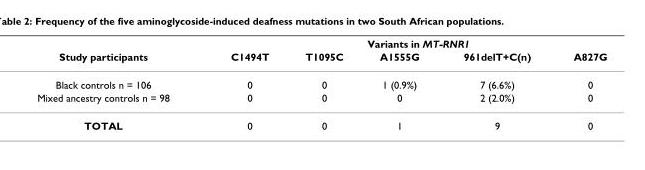table: (36, 37, 606, 131)
table column: (36, 37, 199, 131), (440, 37, 551, 131), (199, 37, 286, 131), (360, 37, 440, 131), (286, 37, 360, 131), (551, 37, 606, 131)
table column header: (36, 37, 606, 70)
table row: (36, 49, 606, 70), (36, 90, 606, 111), (36, 70, 606, 90), (36, 111, 606, 131), (36, 37, 606, 49)
table spanning cell: (36, 37, 199, 70), (199, 37, 606, 49)
